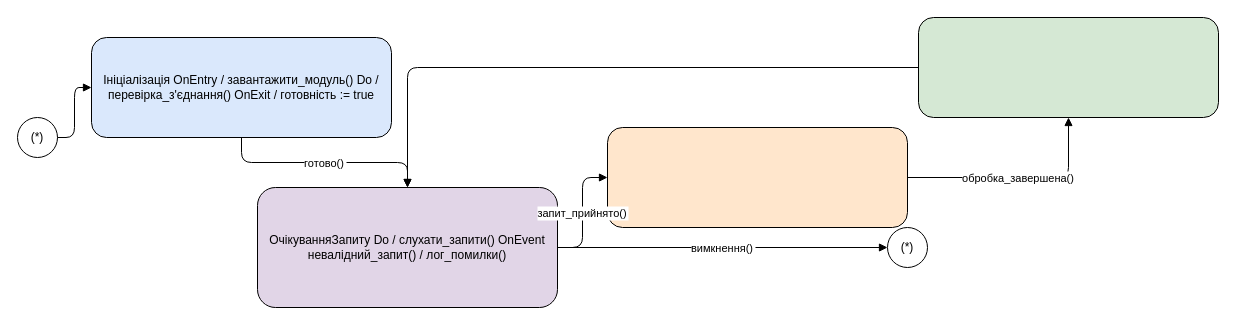
The diagram is 1236 pixels wide and 325 high, and some of its shapes have lost their labels. Here are the shapes that lost their labels. From the top down, the box of each, then its label:
(918, 16, 1218, 118): НадсиланняРезультату Do / відправити_відповідь() OnExit / оновити_лог()
(606, 126, 908, 228): ОбробкаЗапиту Do / обробити_координати() OnExit / записати_в_кеш()
